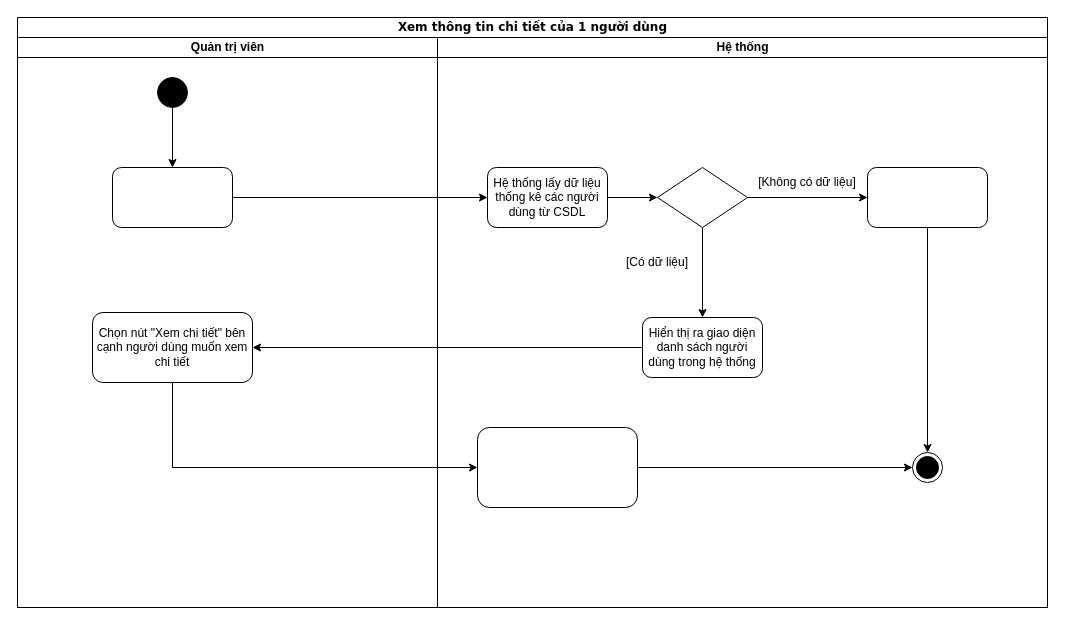
Some shapes in this 1065 by 625 pixel diagram are drawn without their labels. Each missing label, with the centre of its shape:
Chọn "Users" trên thanh Navbar: the point at 172,197
Hiển thị thông báo không có người dùng nào: the point at 927,197
Hiển thị thông tin chi tiết về tài khoản của người dùng đó: the point at 557,467
